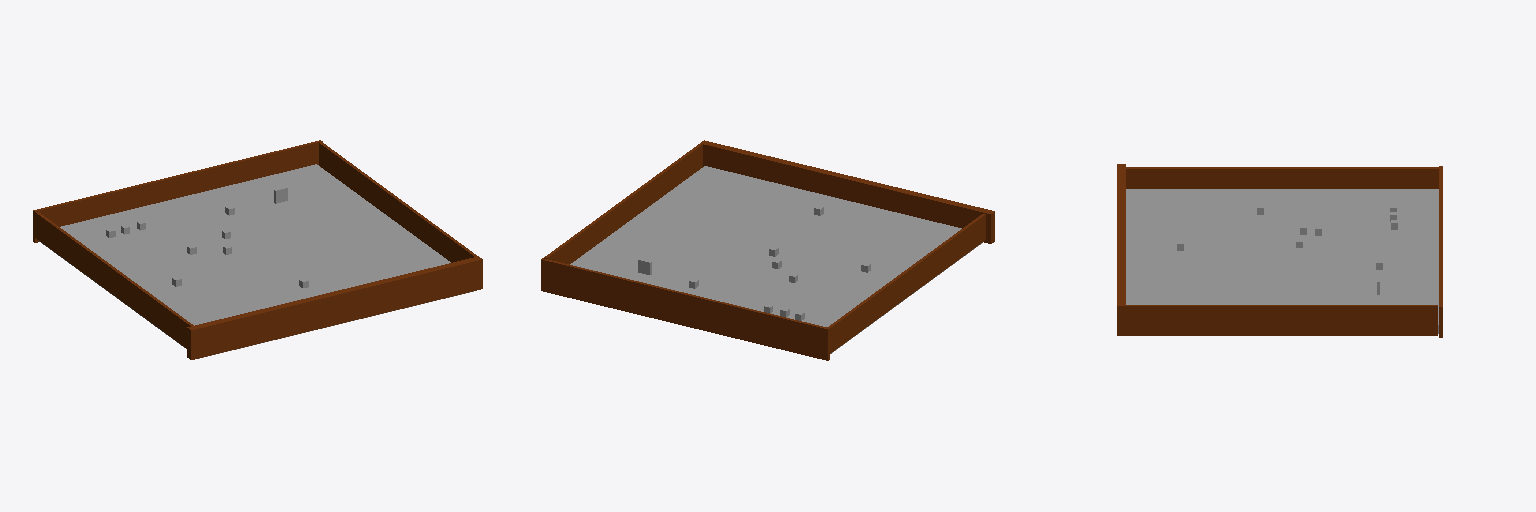
The model's file is map03.obj.
3 renders of one model, left to right at view 1: azimuth 30°, elevation 25°; view 2: azimuth 150°, elevation 25°; view 3: azimuth 270°, elevation 25°, orthographic.
Visible parts, largest first — view 1: Cube_Cube.050, Cube.003_Cube.053, Cube.002_Cube.052, Cube.004_Cube.054, Cube.001_Cube.051; view 2: Cube_Cube.050, Cube.002_Cube.052, Cube.003_Cube.053, Cube.004_Cube.054, Cube.001_Cube.051; view 3: Cube_Cube.050, Cube.001_Cube.051, Cube.004_Cube.054, Cube.003_Cube.053, Cube.002_Cube.052.
Part boxes in pixels (x1,y1,x2,y2): Cube_Cube.050: (39, 164, 473, 358); Cube.003_Cube.053: (187, 257, 482, 359); Cube.002_Cube.052: (33, 140, 322, 242); Cube.004_Cube.054: (35, 212, 193, 348); Cube.001_Cube.051: (319, 142, 480, 262); Cube_Cube.050: (570, 166, 981, 353); Cube.002_Cube.052: (541, 258, 829, 360); Cube.003_Cube.053: (702, 140, 994, 243); Cube.004_Cube.054: (827, 214, 985, 353); Cube.001_Cube.051: (544, 141, 704, 264); Cube_Cube.050: (1126, 189, 1438, 333); Cube.001_Cube.051: (1120, 305, 1437, 335); Cube.004_Cube.054: (1126, 167, 1438, 188); Cube.003_Cube.053: (1117, 164, 1125, 335); Cube.002_Cube.052: (1439, 166, 1442, 337).
Bounding box in the file's own units: 593 × 80.33 × 572.